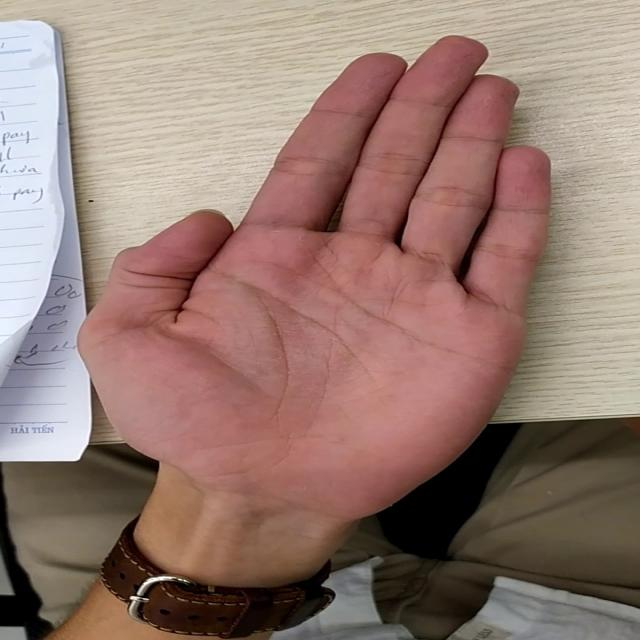hand: (113, 43, 585, 506)
